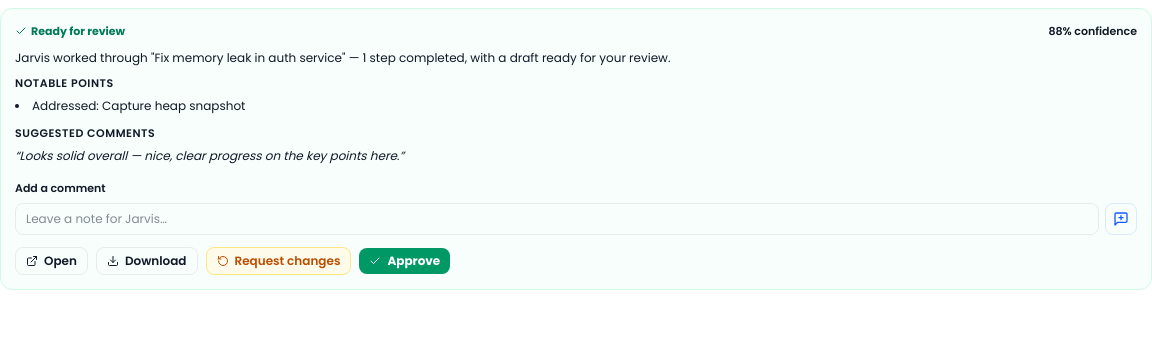
Test case: ArtifactCard — document artifact (other categories) › adds a typed comment to the visible running list
Type "Looks good, ship it." into the field labelled "Add a comment" at (557, 219), box [15, 203, 1099, 235]
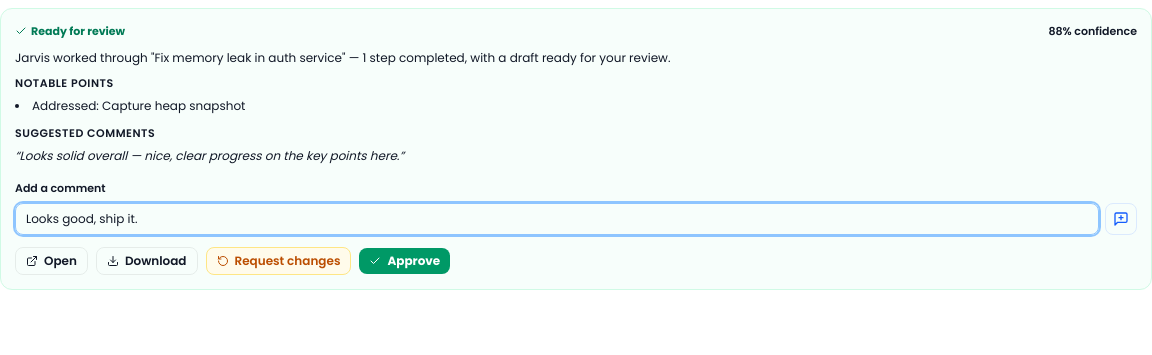
Click the button named "add comment" at (1121, 219), box [1105, 203, 1137, 235]
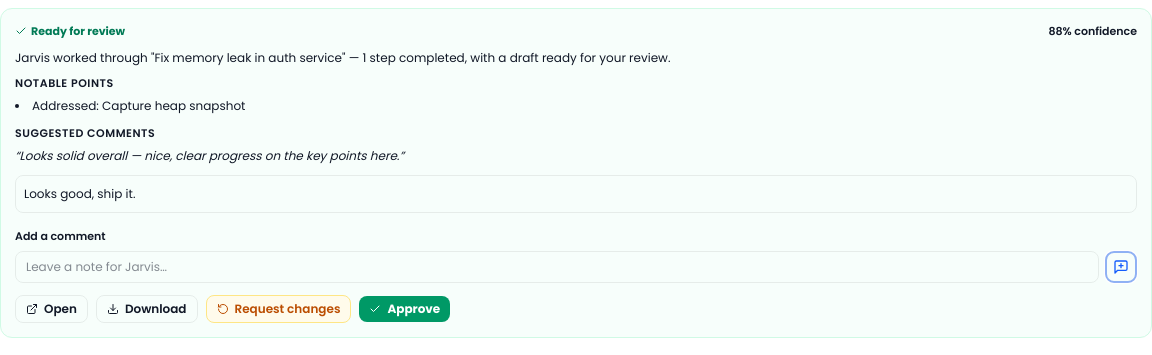
Result: the list item "Looks good, ship it." is shown at [15, 175, 1137, 212]
Result: the field labelled "Add a comment" is empty at [15, 250, 1099, 282]
